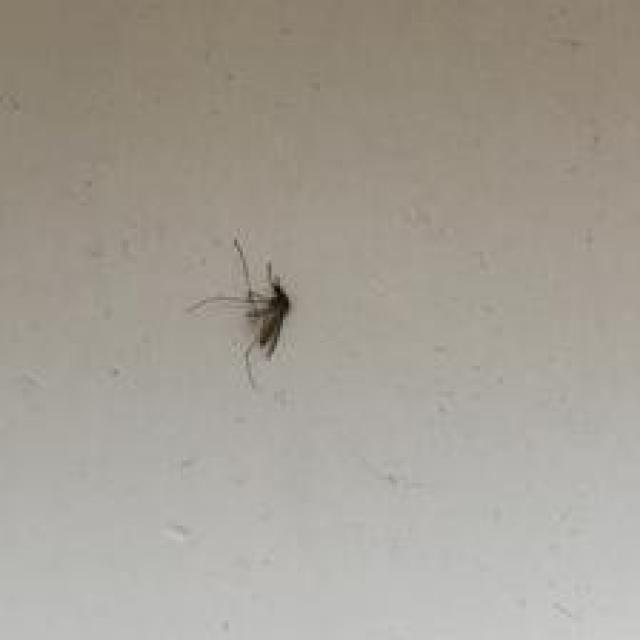Culex: (186, 236, 291, 387)
